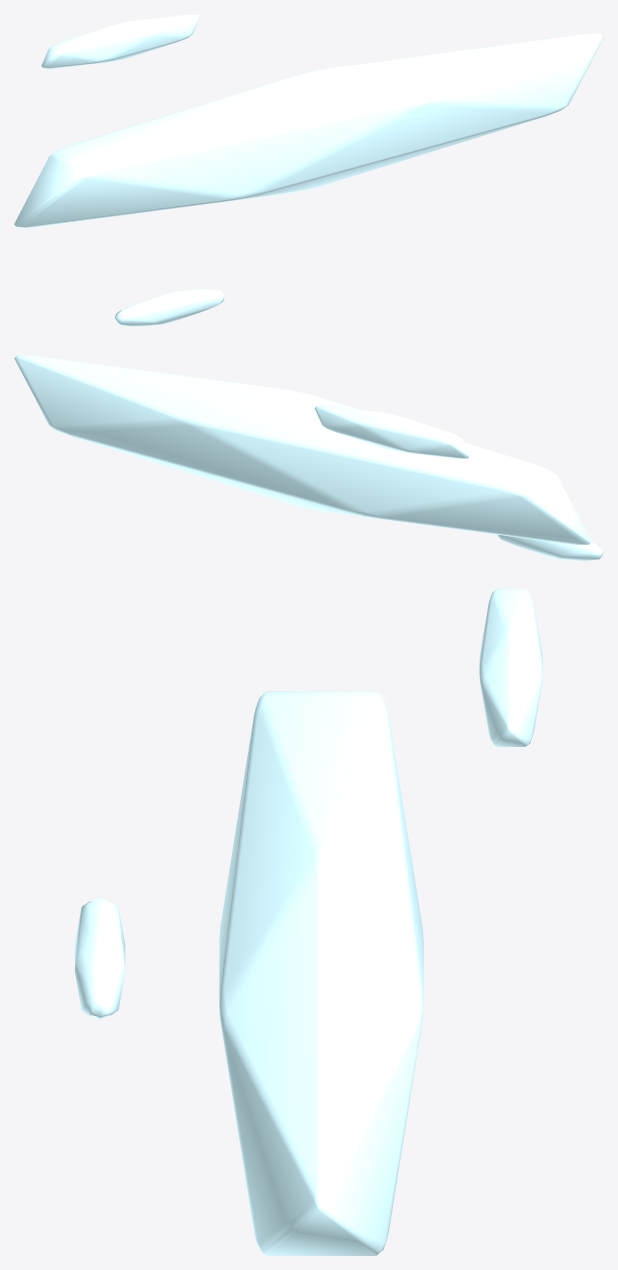
The model's file is Idol_Ice_Crystal.glb.
The picture shows the model from 3 angles, top to bottom: view 1: azimuth 30°, elevation 25°; view 2: azimuth 150°, elevation 25°; view 3: azimuth 270°, elevation 25°; orthographic projection. The views are drawn at different scales.
Visible parts, largest first — view 1: Idol_Ice_Crystal; view 2: Idol_Ice_Crystal; view 3: Idol_Ice_Crystal.
Part boxes in pixels (bbox=[...]): Idol_Ice_Crystal: bbox=[14, 14, 603, 326]; Idol_Ice_Crystal: bbox=[14, 355, 603, 560]; Idol_Ice_Crystal: bbox=[75, 589, 542, 1255].
Size of the model in its own units: 0.8436 by 0.284 by 0.296.
